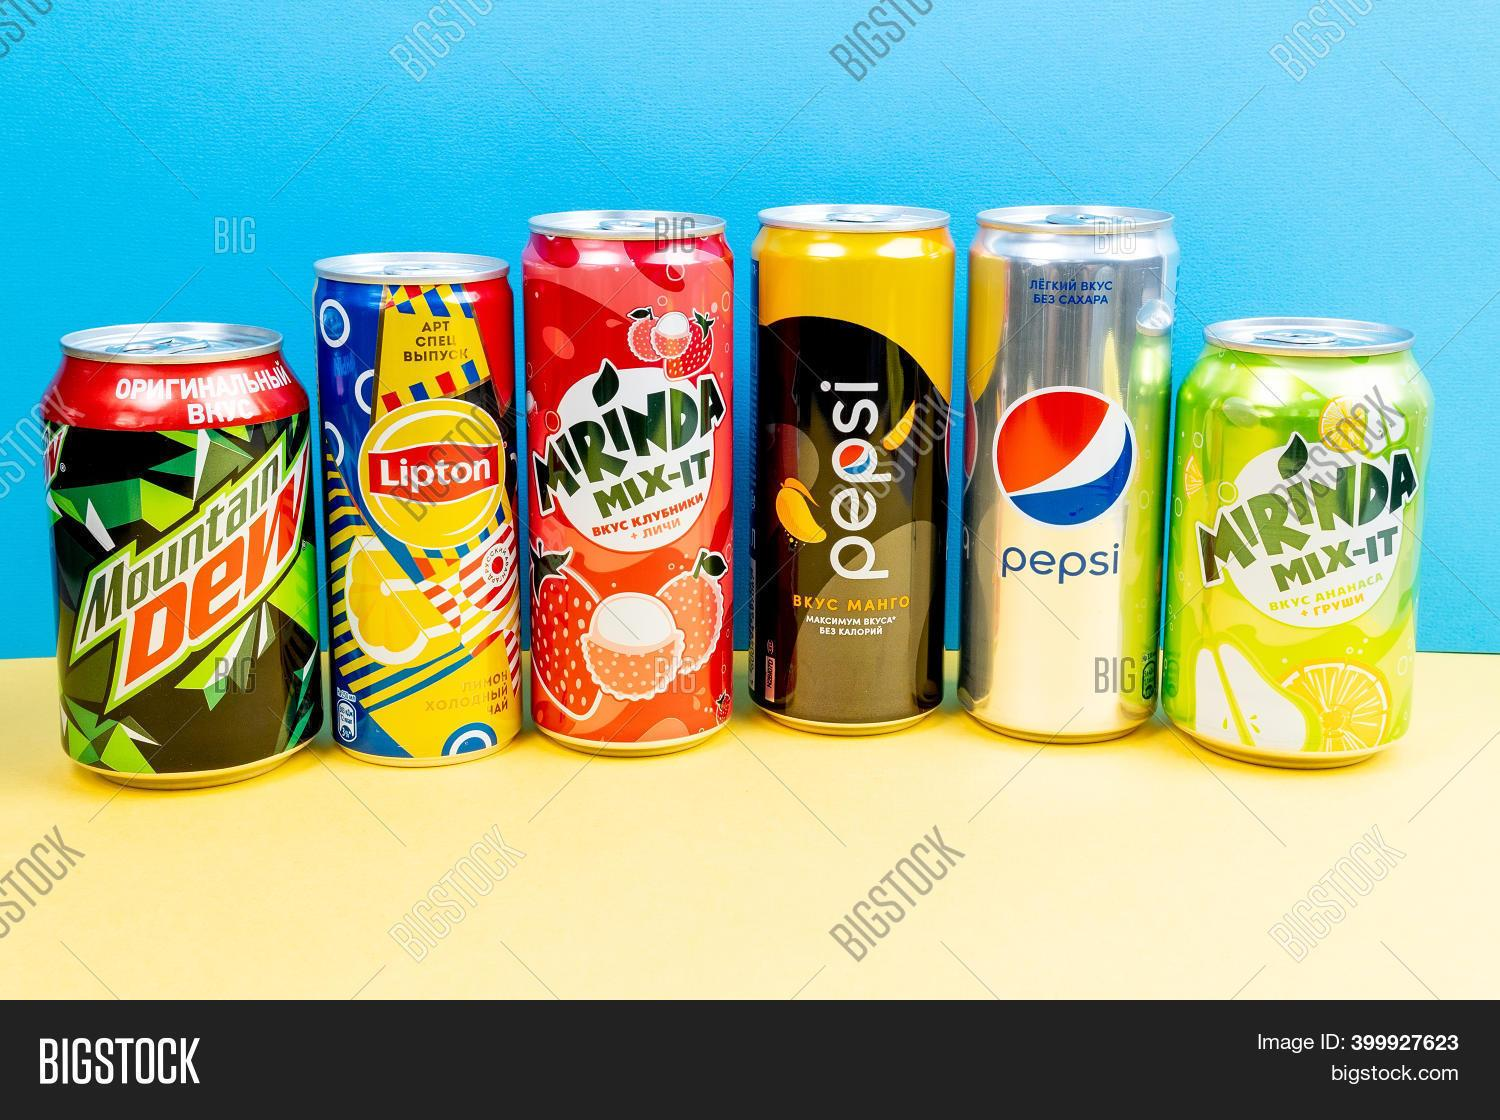metal: (738, 176, 1176, 773), (38, 292, 322, 772), (516, 200, 739, 754), (308, 222, 528, 768), (1186, 289, 1432, 766)
